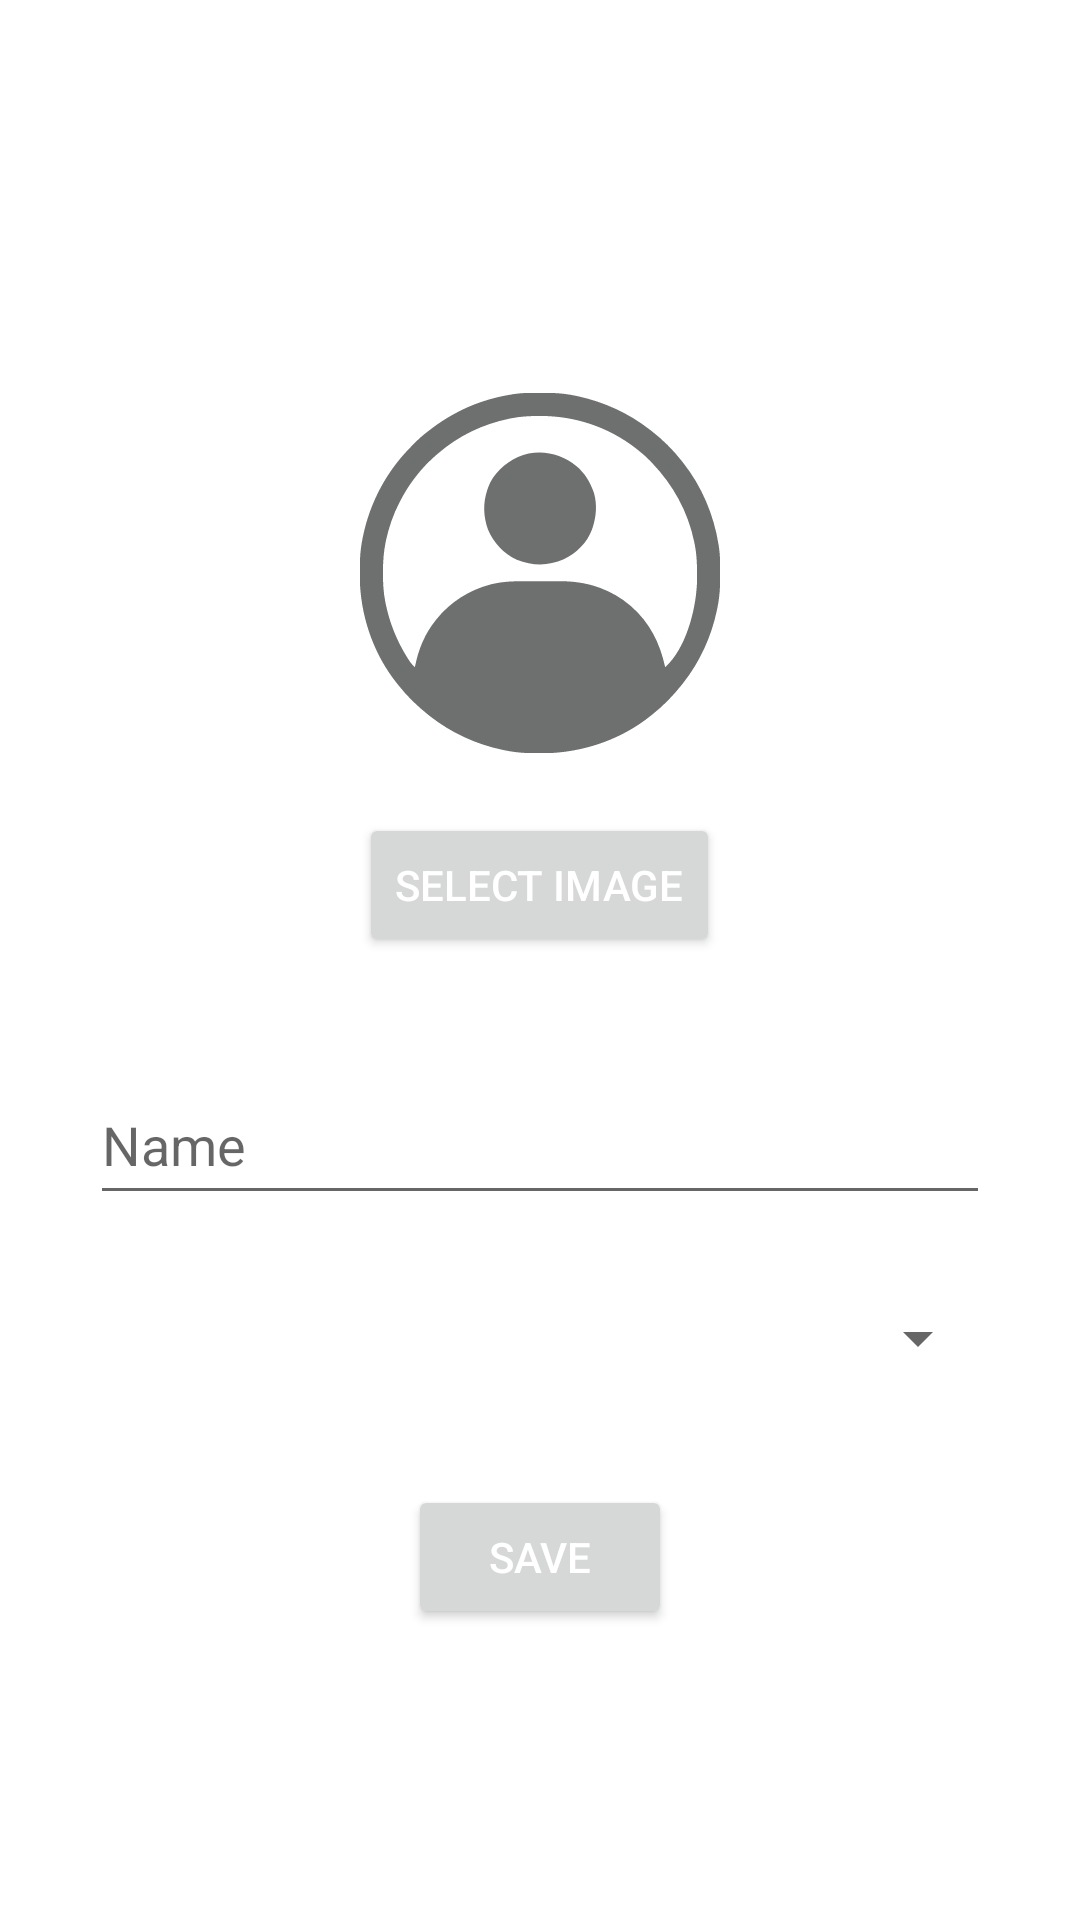

Screen size 1080x1920. Icon name, then its center in pixels as [x,y]:
profile: [540,573]
